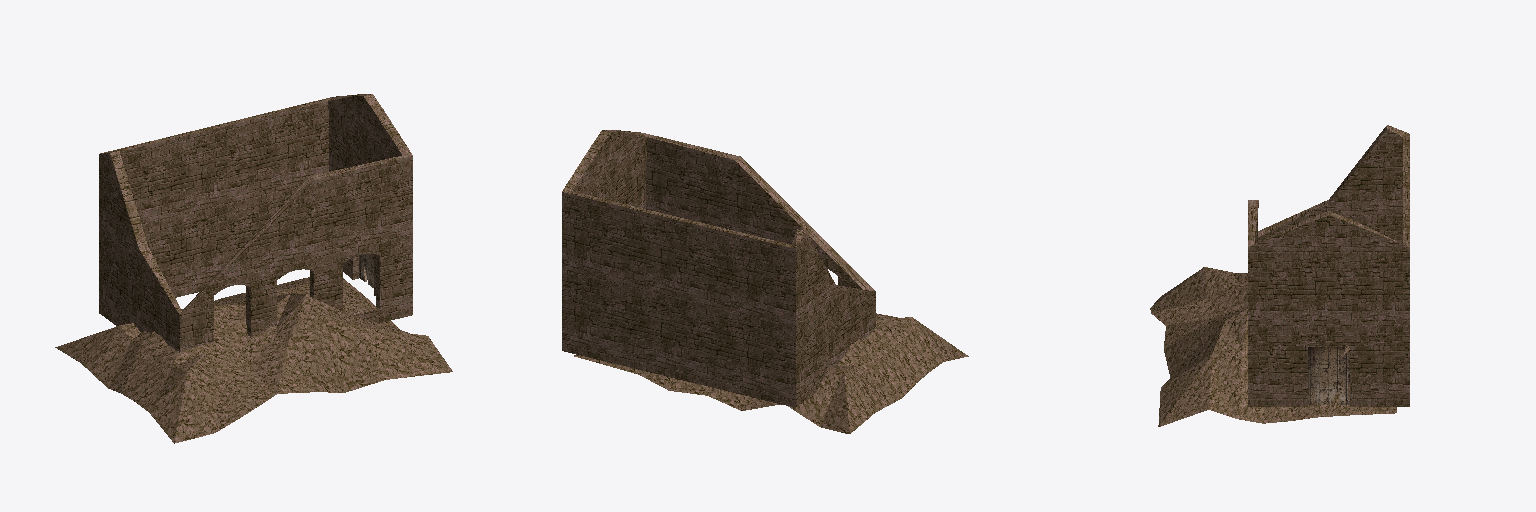
3 views of the same model, side by side, from view 1: azimuth 30°, elevation 25°; view 2: azimuth 150°, elevation 25°; view 3: azimuth 270°, elevation 25° (orthographic).
Visible parts, largest first — view 1: Plane01, Plane02; view 2: Plane01, Plane02; view 3: Plane01, Plane02, Box01.
Part boxes in pixels (x1,y1,x2,y2): Plane01: (99,94,412,352); Plane02: (55,277,452,443); Plane01: (562,130,875,407); Plane02: (574,313,968,433); Plane01: (1248,125,1409,406); Plane02: (1150,267,1396,426); Box01: (1308,347,1349,404).
Bounding box in the file's own units: 476 × 353 × 379.
3 materials, 3 textured.